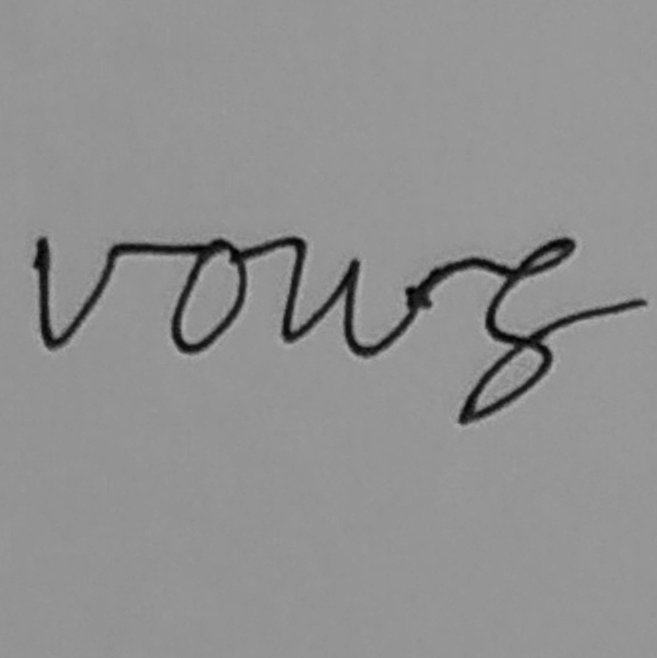o: (166, 234, 249, 357)
s: (455, 234, 578, 427)
v: (29, 234, 118, 355)
w: (277, 232, 443, 361)
